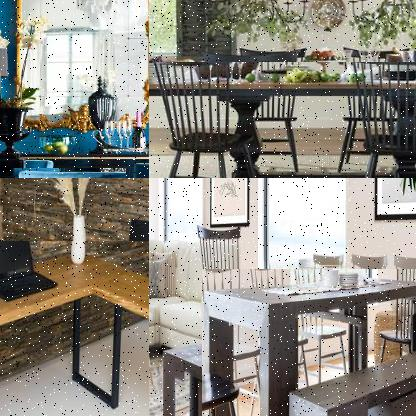table: (201, 269, 415, 415), (149, 62, 415, 177), (0, 241, 148, 415)
